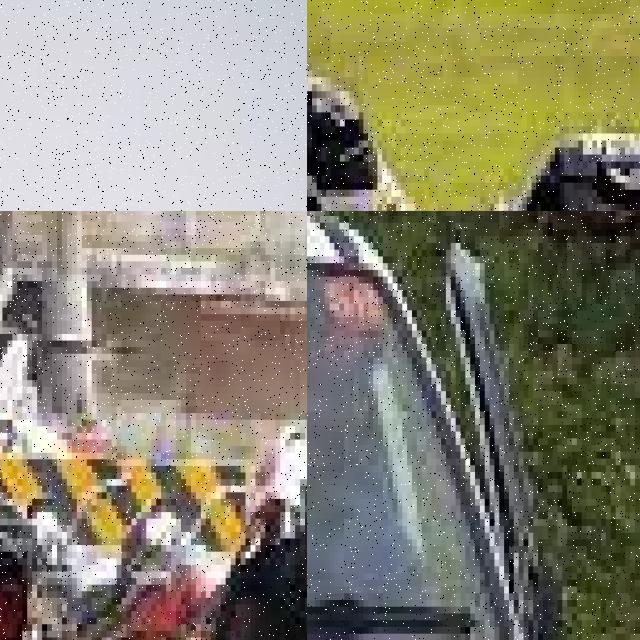bike: (307, 0, 640, 211), (37, 505, 196, 640), (0, 452, 82, 640), (0, 0, 72, 211)
car: (307, 211, 640, 640)
